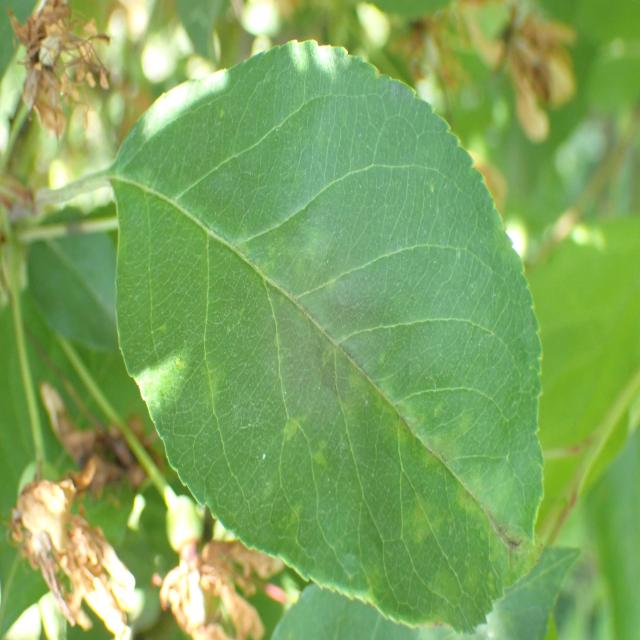scab: (248, 223, 530, 618)
